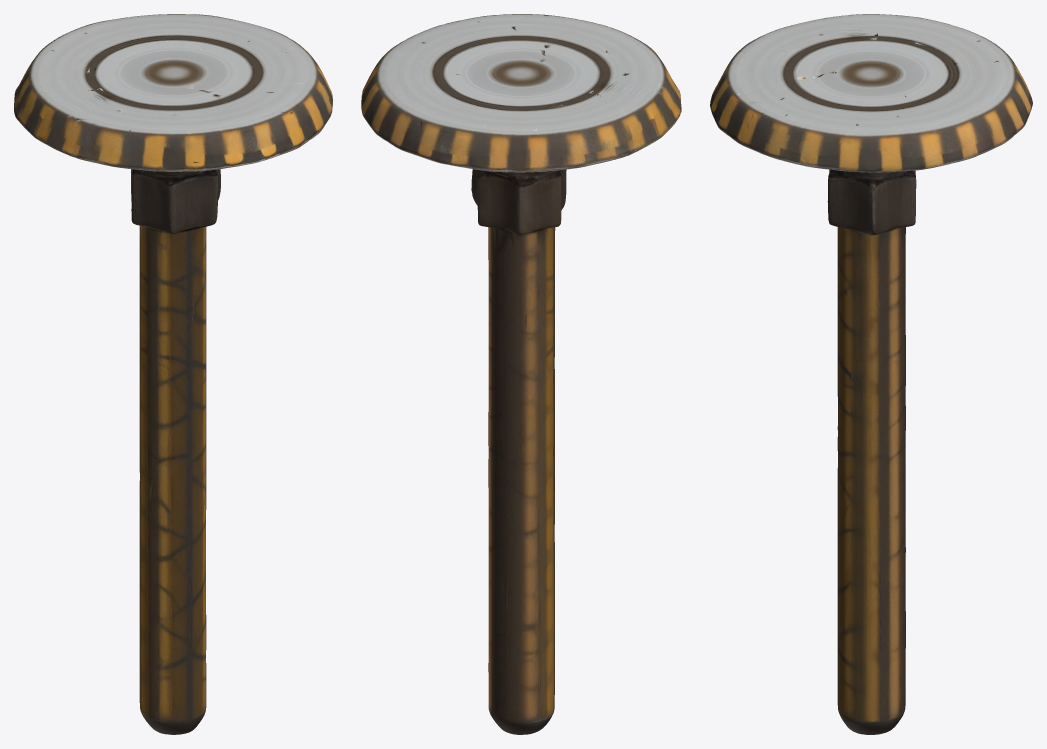
File: poppet-valve.glb
3 renders of one model, left to right at view 1: azimuth 30°, elevation 25°; view 2: azimuth 150°, elevation 25°; view 3: azimuth 270°, elevation 25°, orthographic.
Bounding box in the file's own units: 0.8931 × 2 × 0.8956.
1 material, 1 textured.
